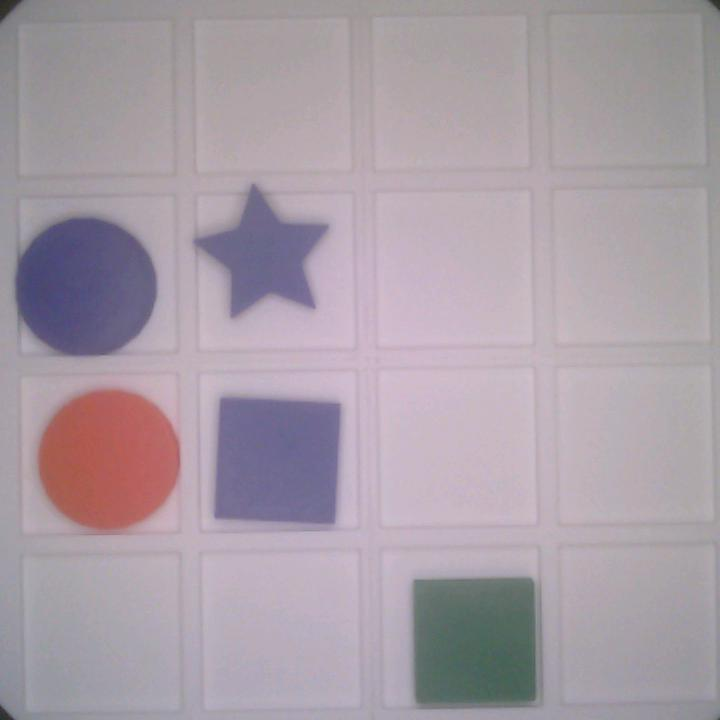Blue circle: (12, 213, 159, 358)
Blue square: (216, 394, 348, 525)
Blue star: (190, 183, 334, 325)
Green square: (405, 574, 540, 705)
Orange circle: (36, 386, 183, 533)
